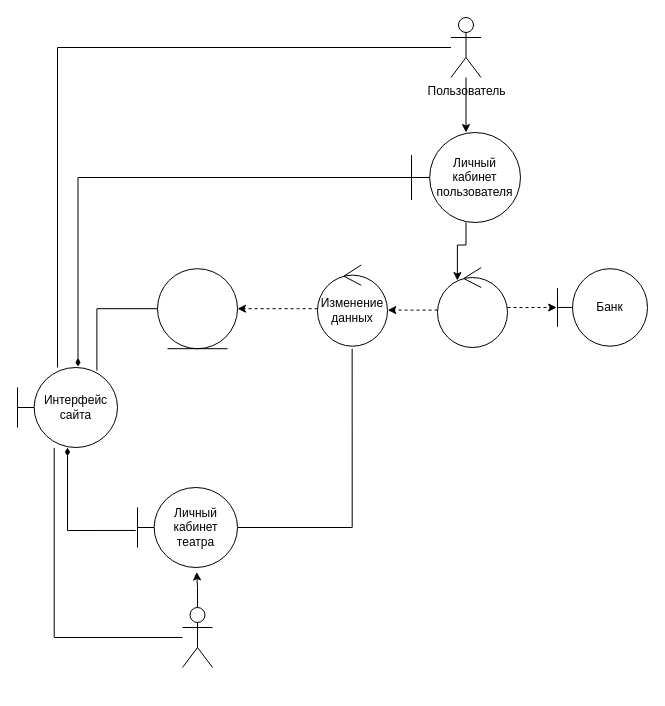
Image size: 665x706. Some labels were removed from this diagram. The centre of each missing label's shape, as x and y in pixels:
"База данных спектаклей" goes at (x=197, y=308).
"Покупка" goes at (x=472, y=307).
"Театр" goes at (x=197, y=637).
